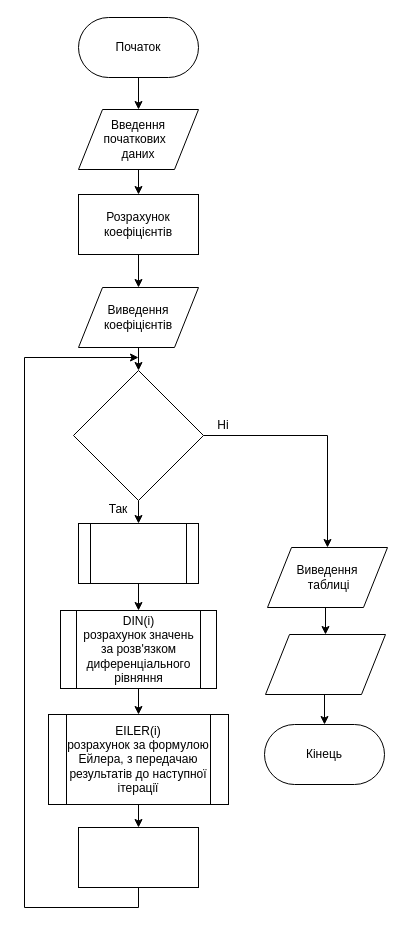
This 405x933 diagram has some shape labels left out. Each missing label, with the centre of its shape:
"SAU(i) метод розрахунку демпфера" belongs at [138,553].
"Виведення графіків" belongs at [325,664].
"Збільшення поточного часу на одиничний стрибок" belongs at [138,857].
"Поточний час менший за кінчевий час" belongs at [138,435].
